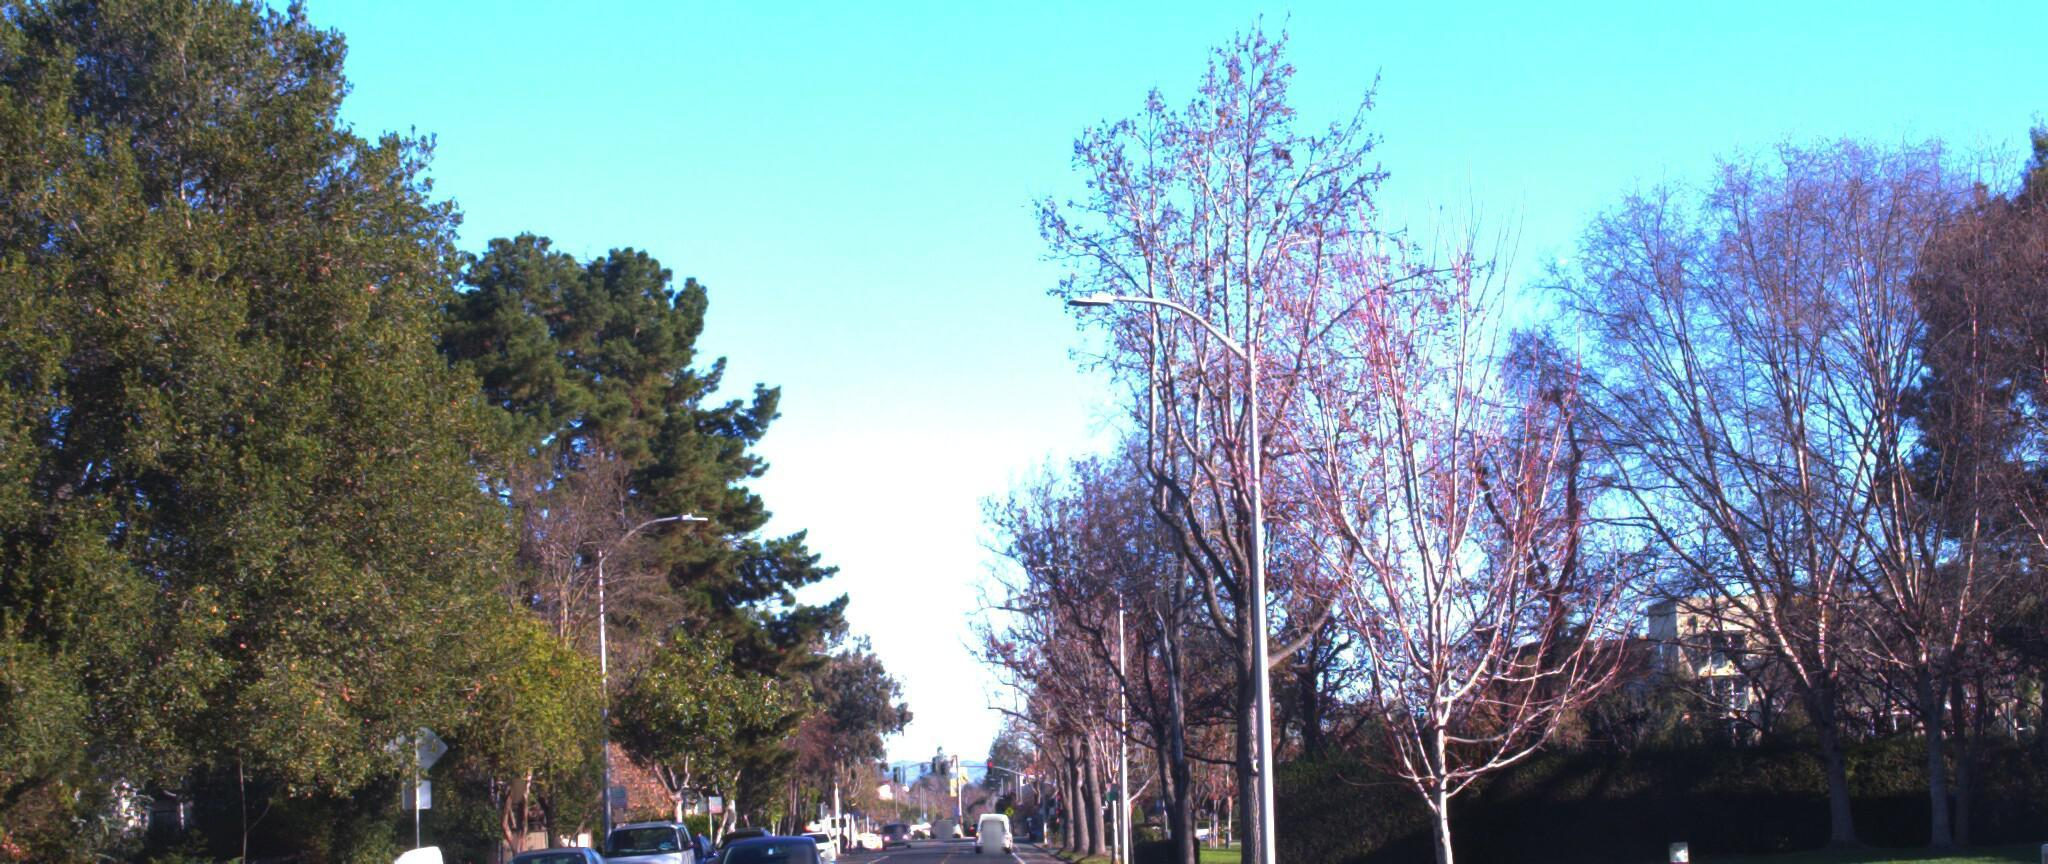car: (594, 796, 705, 864), (694, 817, 835, 864), (474, 827, 633, 864), (231, 857, 626, 864)
